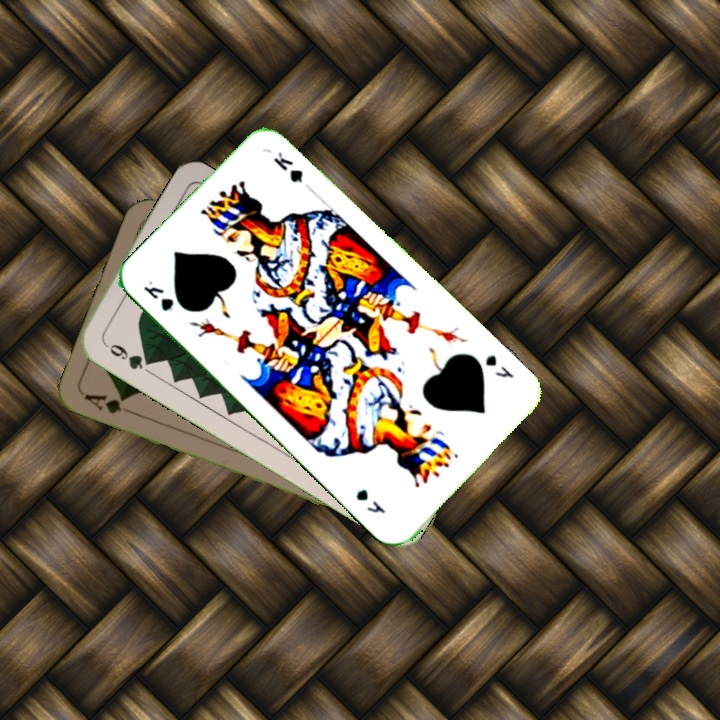G9: (99, 337, 156, 373)
GA: (80, 390, 137, 418)
GK: (139, 276, 177, 314), (481, 351, 517, 381)
